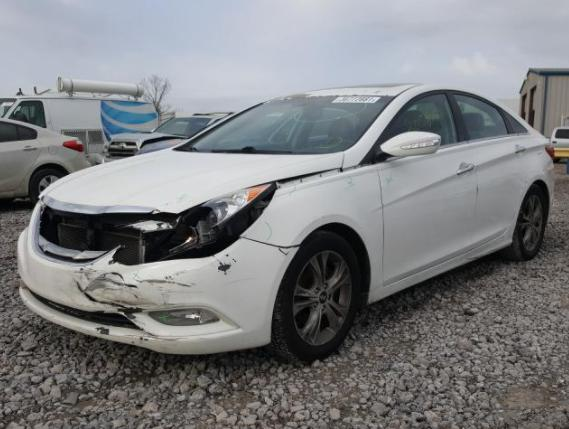Broken part: (16, 198, 302, 355), (113, 182, 277, 265), (272, 159, 378, 196)
Dent: (66, 268, 160, 311), (138, 275, 192, 308), (62, 203, 115, 214), (177, 193, 188, 204), (47, 196, 56, 205)
Paint chip: (73, 278, 146, 322), (75, 266, 138, 293), (214, 257, 233, 276), (95, 326, 110, 336), (149, 208, 161, 215), (107, 259, 116, 267), (131, 292, 139, 299), (232, 258, 238, 263), (139, 336, 144, 342), (225, 253, 230, 258), (164, 276, 169, 280), (144, 339, 149, 341), (169, 276, 172, 279), (131, 341, 134, 343)
Scratch: (99, 293, 159, 306), (61, 291, 99, 309), (143, 279, 191, 288), (147, 332, 188, 342), (227, 277, 259, 285), (263, 221, 273, 241), (132, 269, 143, 284), (346, 177, 355, 191), (162, 291, 202, 294), (289, 184, 298, 196), (278, 248, 289, 256), (135, 319, 147, 326), (175, 269, 186, 276), (111, 335, 141, 337), (161, 303, 177, 306), (190, 281, 197, 286), (158, 286, 164, 289)
